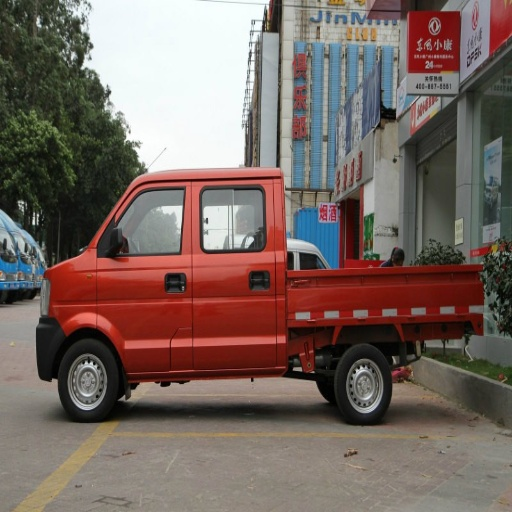trunk: (207, 241, 409, 372)
